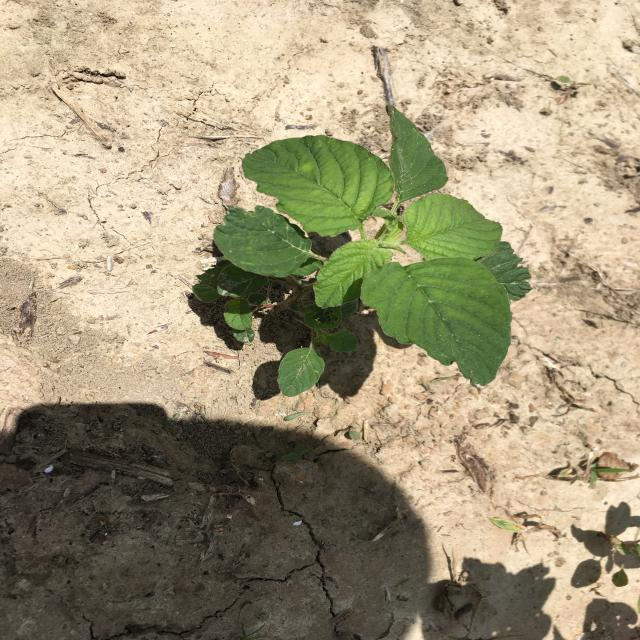PalmerAmaranth: (192, 104, 532, 397)
